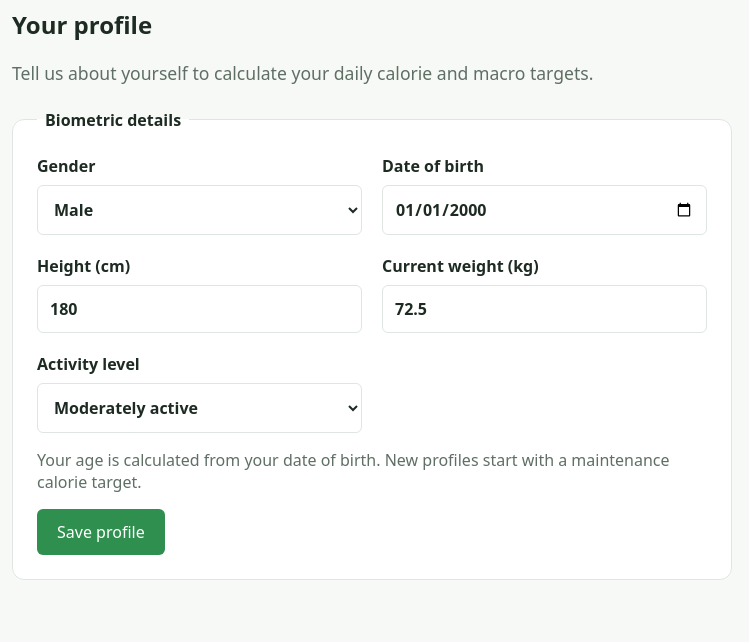
Test: loads a persisted profile and preserves its goal when saving
Check: the number field labelled "Height (cm)" holds "180", box [37,285,362,333]
Click the button "Save profile".
click(101, 532)  # box [37,509,165,555]
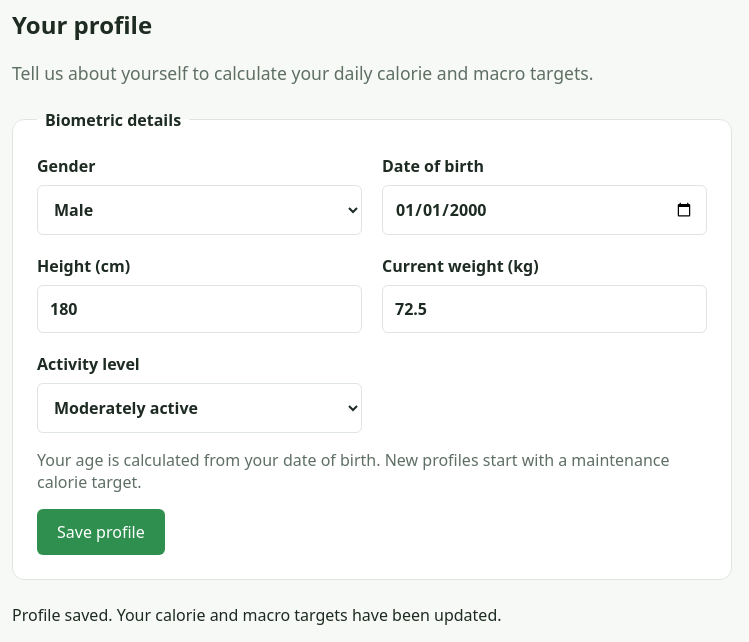
Check: the text "Profile saved. Your calorie and macro targets have been updated." is shown, box [12,604,502,626]
